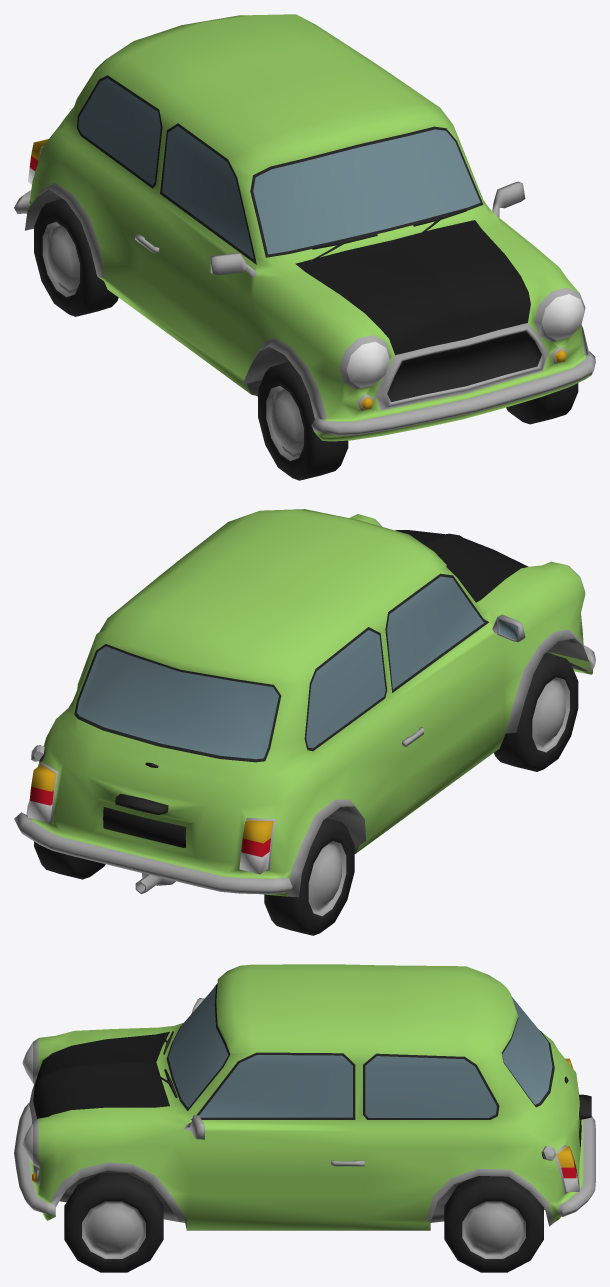
Rendered from ClassicMini.fbx.
3 renders of one model, top to bottom at view 1: azimuth 30°, elevation 25°; view 2: azimuth 150°, elevation 25°; view 3: azimuth 270°, elevation 25°, orthographic. The views are drawn at different scales.
Visible parts, largest first — view 1: Body, wheel_FL, wheel_BL, wheel_FR; view 2: Body, wheel_FL, wheel_BL, wheel_BR; view 3: Body, wheel_FR, wheel_BR.
Boxes of the visible parts, x1,y1,x2,y2 form: Body: (14, 14, 595, 460); wheel_FL: (258, 361, 348, 480); wheel_BL: (34, 198, 118, 316); wheel_FR: (506, 383, 578, 424); Body: (14, 509, 595, 916); wheel_FL: (494, 653, 578, 771); wheel_BL: (264, 818, 354, 935); wheel_BR: (34, 841, 105, 879); Body: (14, 964, 595, 1258); wheel_FR: (64, 1173, 163, 1272); wheel_BR: (444, 1176, 543, 1272).
Size of the model in its own units: 163 by 135 by 310.
